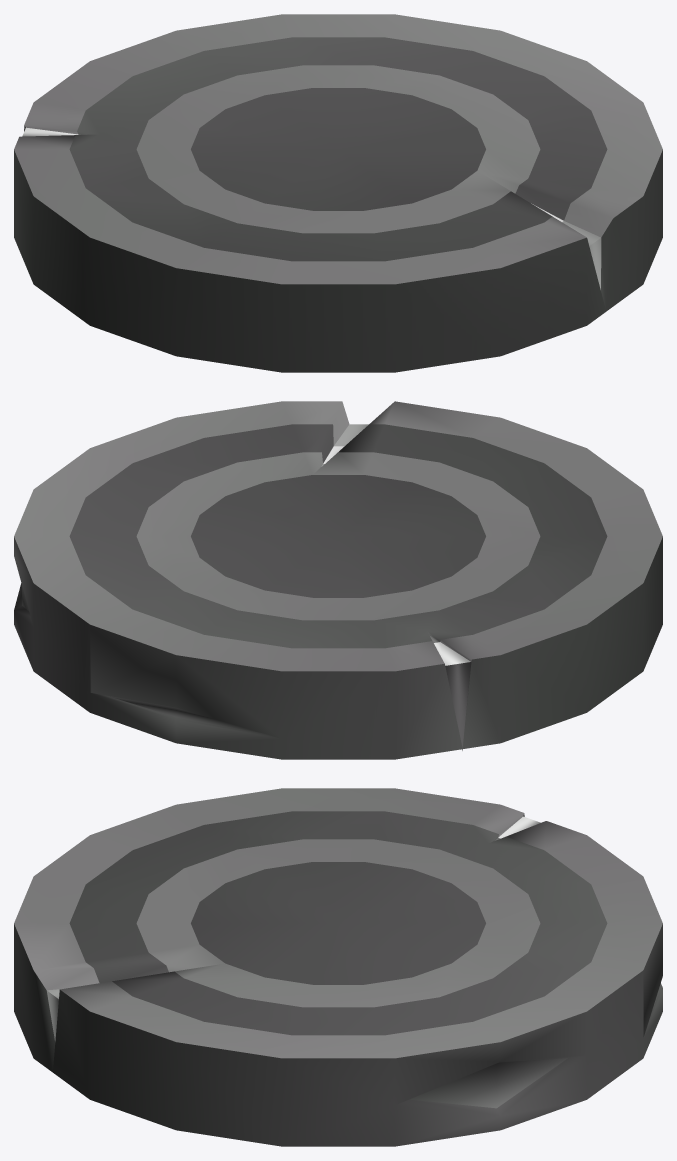
File: SM_WoodenTarget_01.obj
3 views of the same model, one above another, from view 1: azimuth 30°, elevation 25°; view 2: azimuth 150°, elevation 25°; view 3: azimuth 270°, elevation 25° (orthographic).
Visible parts, largest first — view 1: SM_WoodenTarget_01_Mat_SwatchOverlay_PolygonTown_01_Wood_Inst; view 2: SM_WoodenTarget_01_Mat_SwatchOverlay_PolygonTown_01_Wood_Inst; view 3: SM_WoodenTarget_01_Mat_SwatchOverlay_PolygonTown_01_Wood_Inst.
Part boxes in pixels (<box>): SM_WoodenTarget_01_Mat_SwatchOverlay_PolygonTown_01_Wood_Inst: <box>14,14,662,372</box>; SM_WoodenTarget_01_Mat_SwatchOverlay_PolygonTown_01_Wood_Inst: <box>14,401,662,759</box>; SM_WoodenTarget_01_Mat_SwatchOverlay_PolygonTown_01_Wood_Inst: <box>14,788,662,1146</box>.
Size of the model in its own units: 0.9848 by 0.155 by 1.
Materials: 1 (1 with a texture image).
